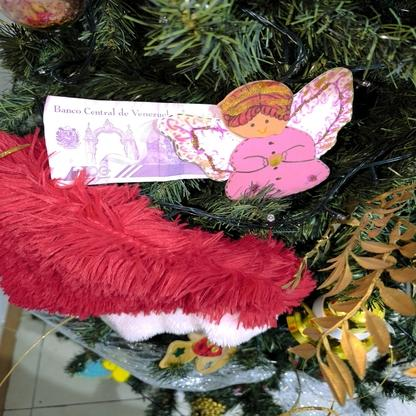one_hundred-back-vef: (43, 95, 222, 187)
